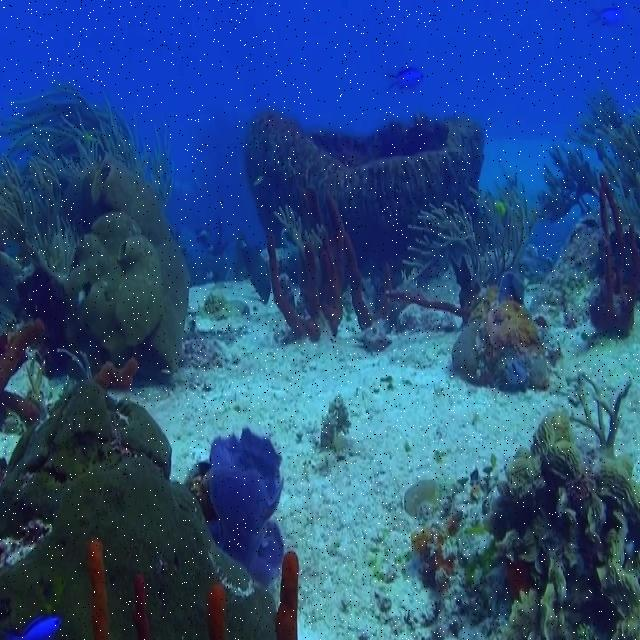aquatic plants: (243, 112, 485, 289), (0, 88, 172, 337), (482, 406, 639, 637), (403, 177, 540, 292), (540, 88, 639, 225), (277, 203, 327, 258)
fish: (8, 615, 61, 639), (387, 67, 424, 88)
reefs: (267, 202, 371, 346), (207, 427, 282, 583), (590, 177, 639, 338), (0, 320, 44, 432), (86, 544, 115, 638), (277, 555, 300, 636), (94, 362, 134, 388)
sea-floor: (0, 381, 277, 639), (19, 160, 189, 386), (455, 298, 550, 392)
